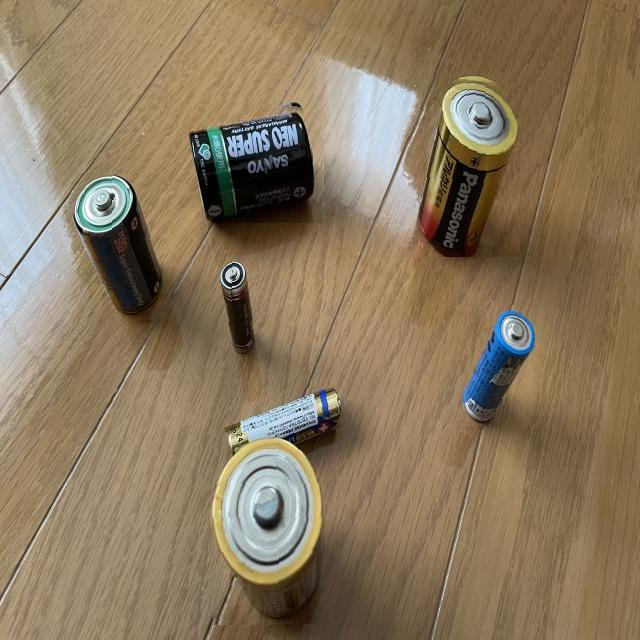battery: (207, 434, 325, 626), (408, 73, 520, 257), (188, 96, 324, 223), (71, 174, 165, 324), (225, 381, 348, 471), (458, 305, 538, 426), (218, 254, 263, 359)
